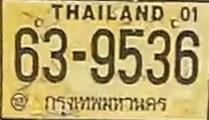3: (42, 27, 66, 82), (146, 29, 170, 84)
5: (118, 28, 144, 84)
6: (174, 29, 199, 84), (14, 27, 38, 83)
9: (90, 28, 114, 84)
BKK: (40, 90, 173, 118)
